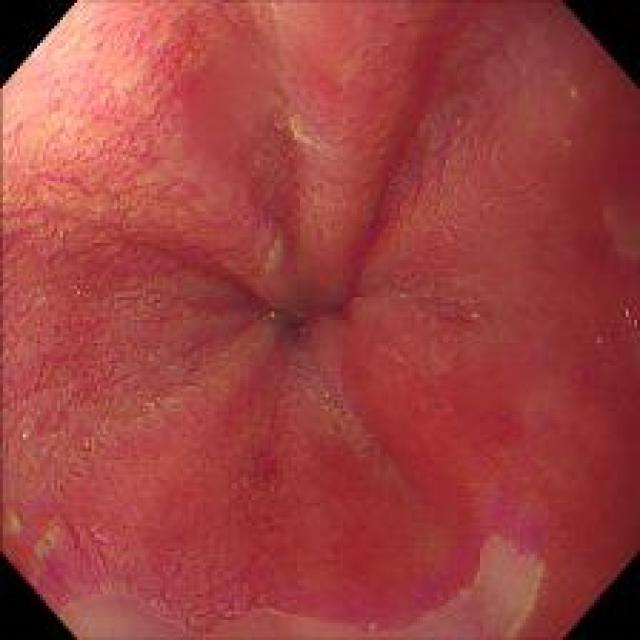color misalignment: (582, 319, 612, 359), (621, 295, 639, 335)
